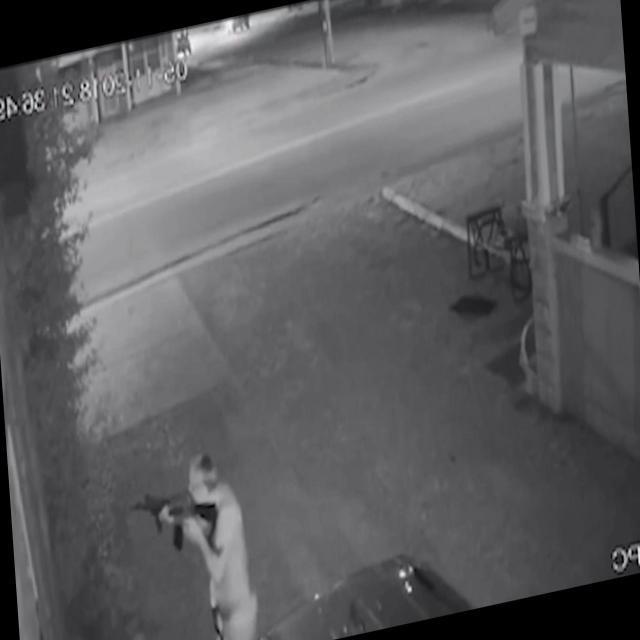pistol: (134, 490, 220, 551)
